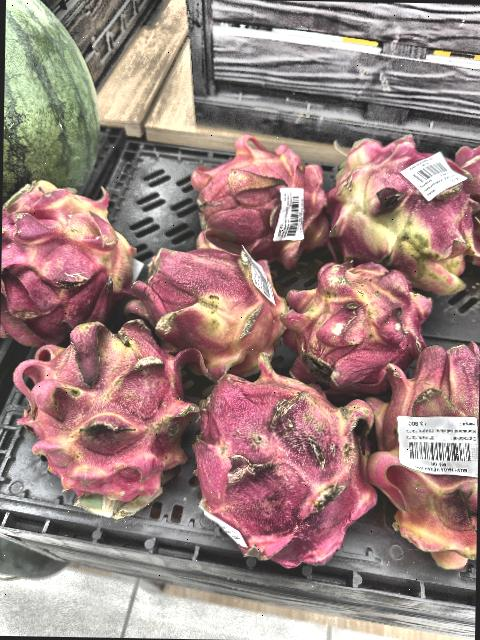buah-naga-belum-matang: (198, 366, 382, 584), (19, 324, 184, 513), (0, 168, 150, 343), (382, 342, 479, 572), (331, 135, 480, 281), (125, 230, 274, 372), (286, 252, 426, 391)
buah-naga-matang: (193, 132, 328, 256)
